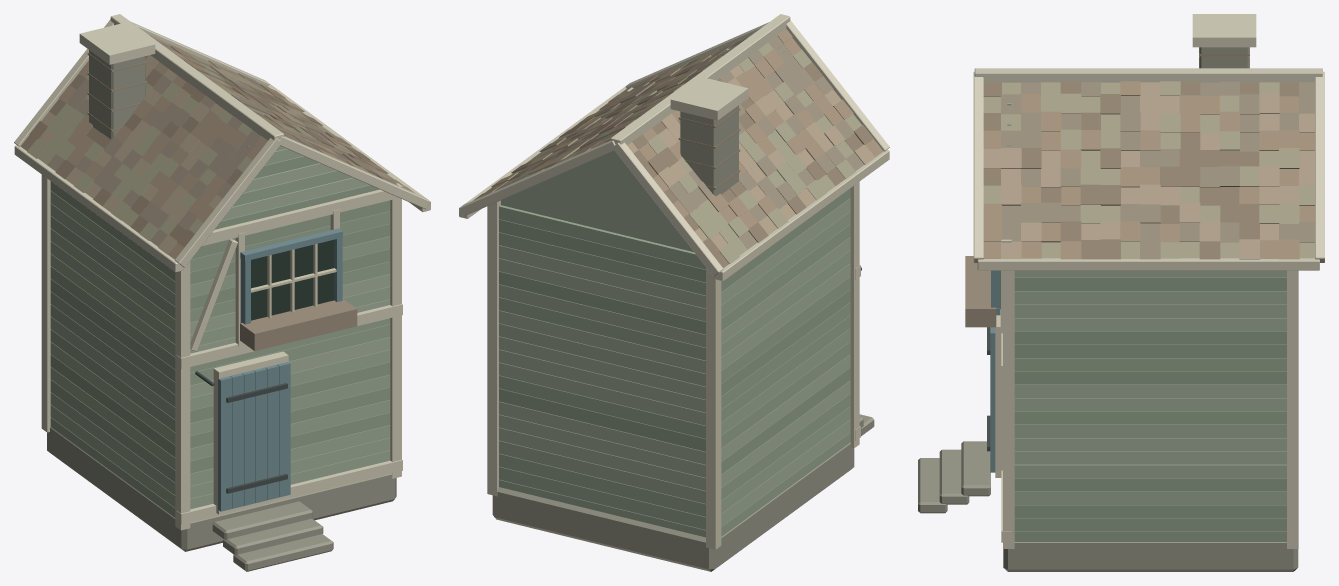
The model's file is Shop.fbx.
The picture shows the model from 3 angles, left to right: view 1: azimuth 30°, elevation 25°; view 2: azimuth 150°, elevation 25°; view 3: azimuth 270°, elevation 25°; orthographic projection. The views are drawn at different scales.
Parts seen in each view (by area): view 1: SM_Shop; view 2: SM_Shop; view 3: SM_Shop.
Part boxes in pixels (x1,y1,x2,y2): SM_Shop: [14, 14, 430, 571]; SM_Shop: [459, 14, 889, 571]; SM_Shop: [918, 14, 1324, 571].
Bounding box in the file's own units: 4.04 × 6.49 × 5.25.
